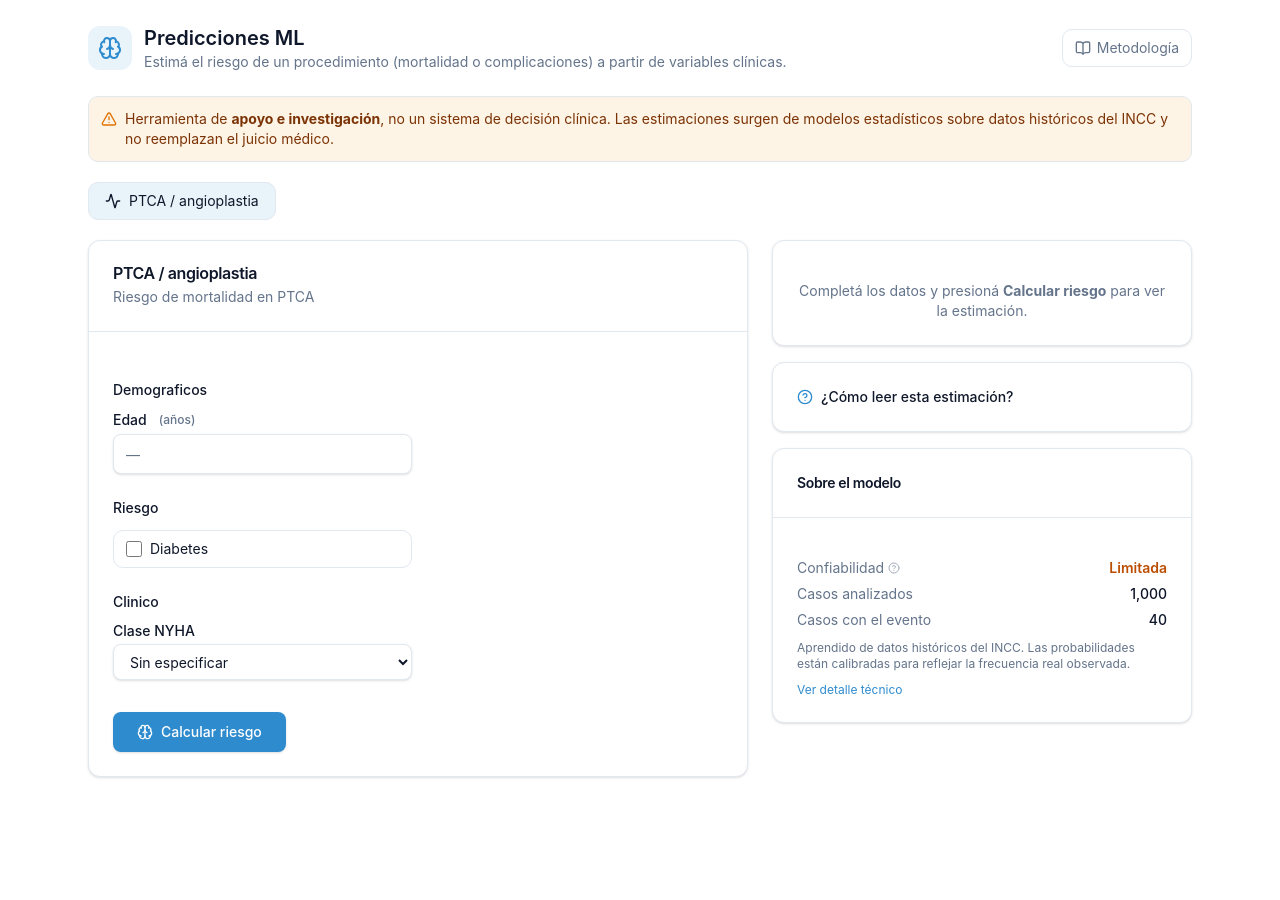
Scenario: MLPage › cubre niveles de riesgo moderado y bajo
Expected: the text "Limitada" is shown, [1109,558,1167,578]
What coordinates should you click on to do the following:
click the button "Calcular riesgo"
I would click on:
 (199, 732)
Its box is [113,712,286,752].
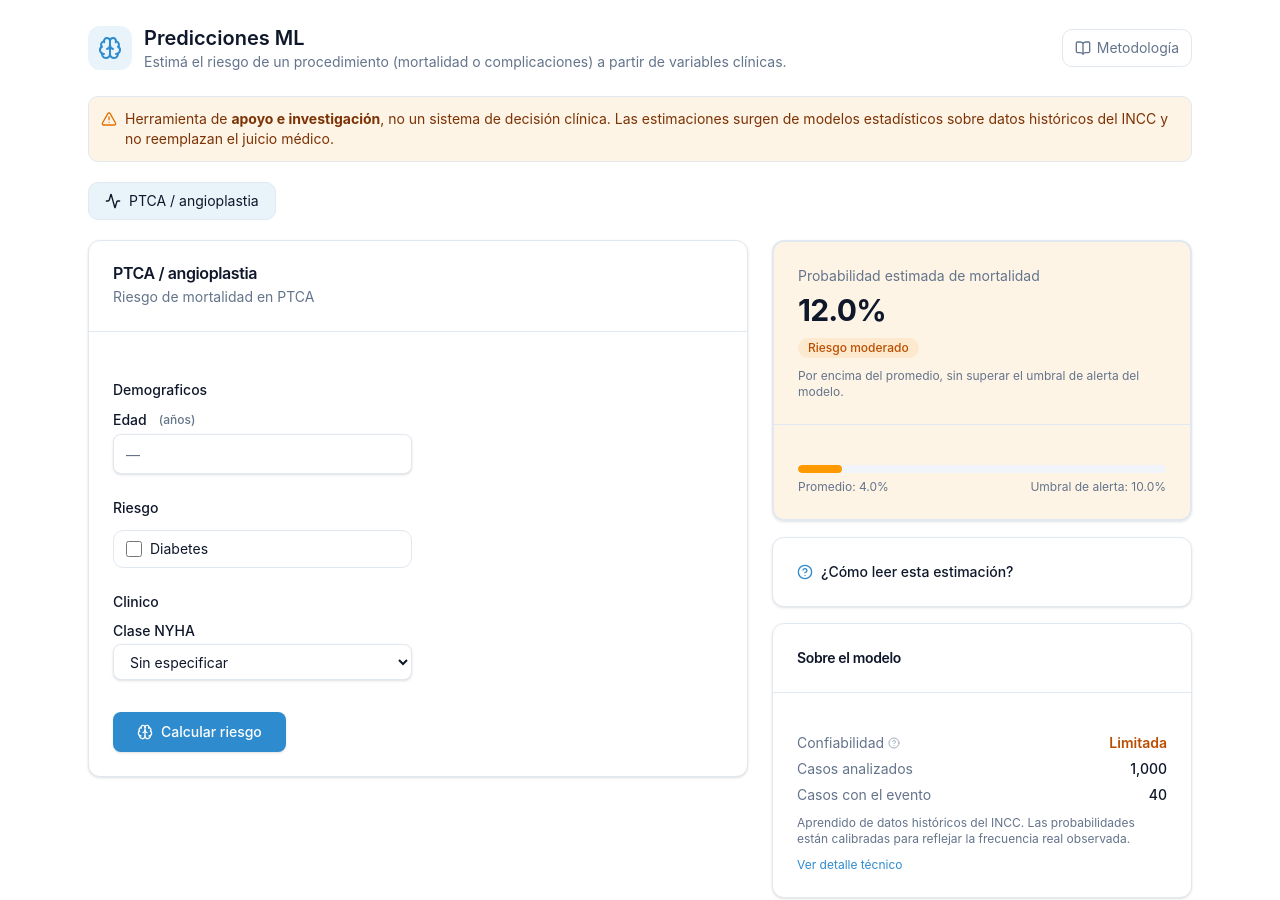
Expected: the text "Riesgo moderado" is shown, [798,338,919,358]
What coordinates should you click on to do the following:
click the button "Calcular riesgo"
I would click on:
 (199, 732)
Its box is [113,712,286,752].
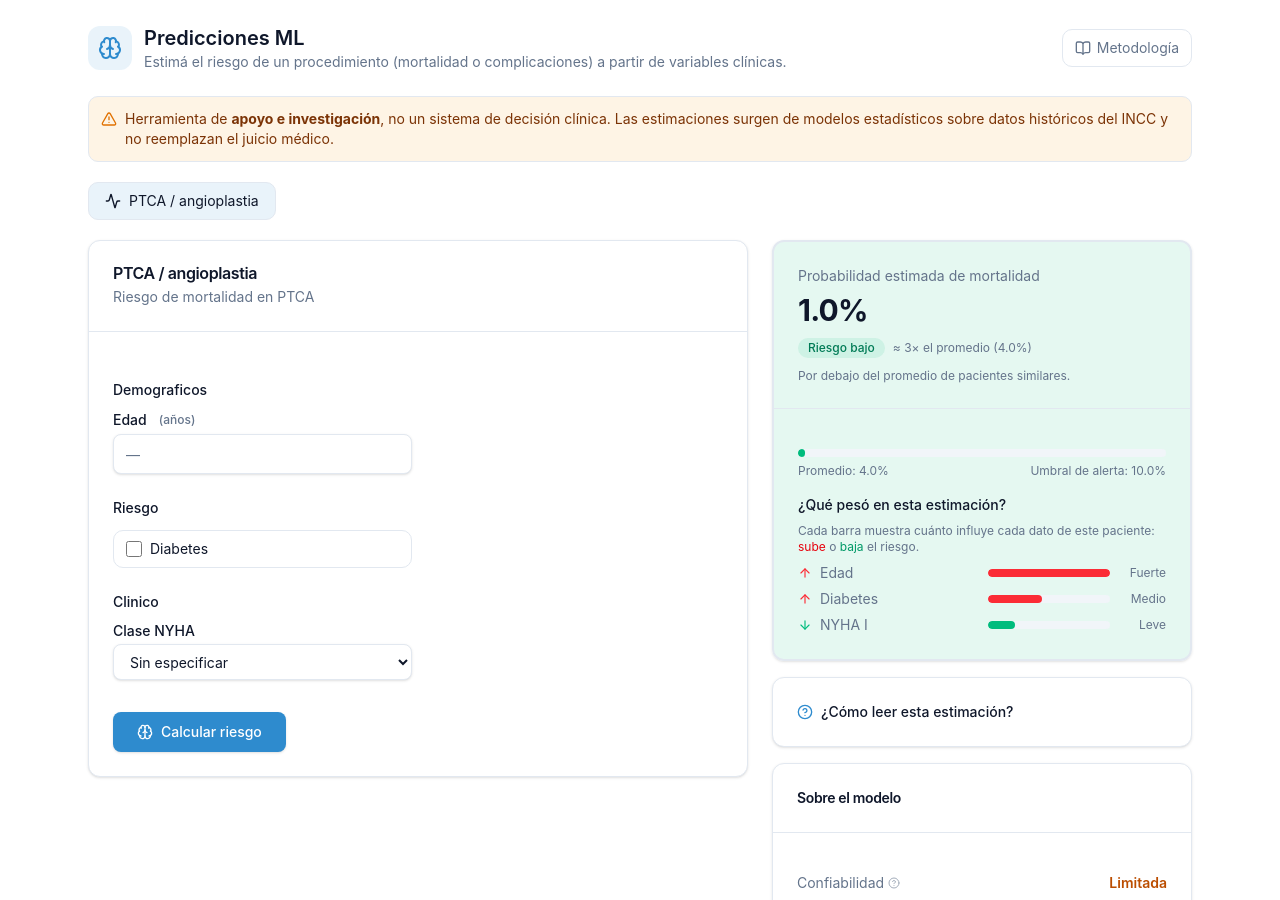
Expected: the text "Riesgo bajo" is shown, [798,338,885,358]
